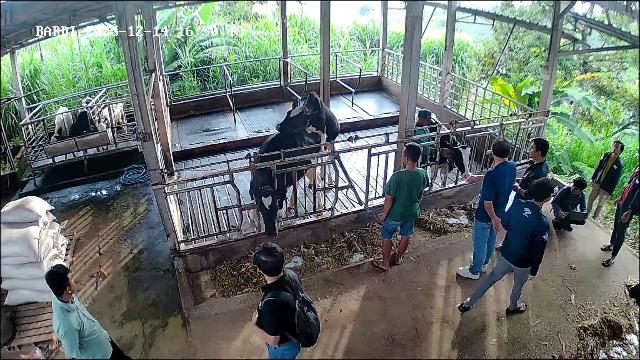mounting: (274, 90, 344, 185)
